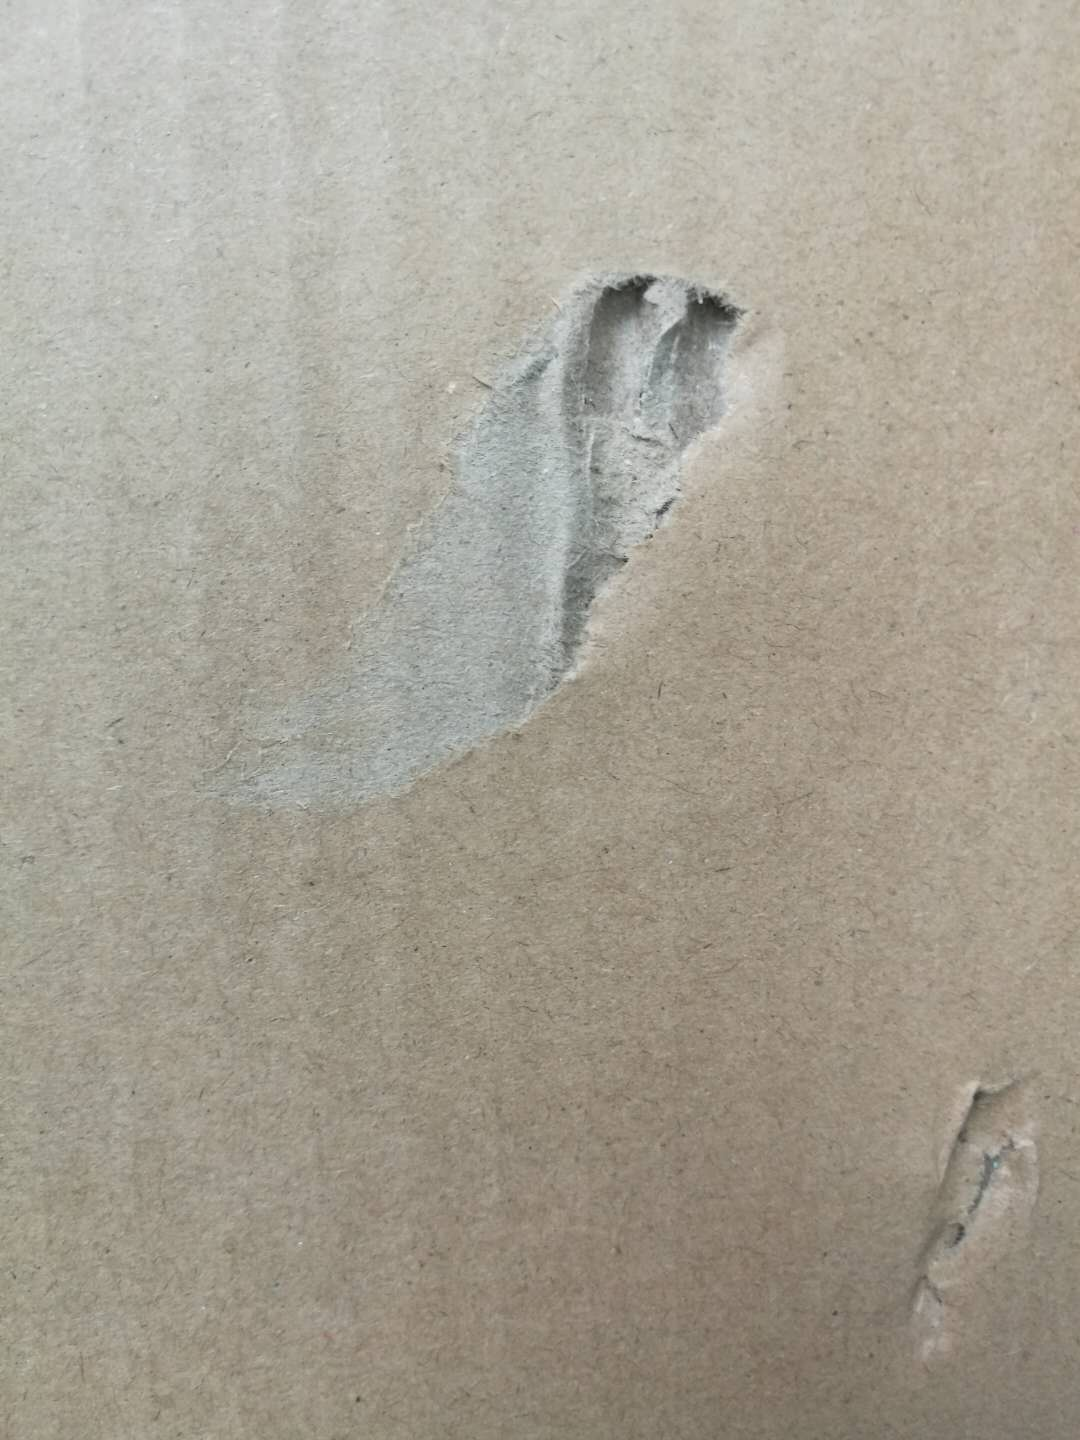defect: (169, 236, 792, 835), (880, 1050, 1063, 1377)
